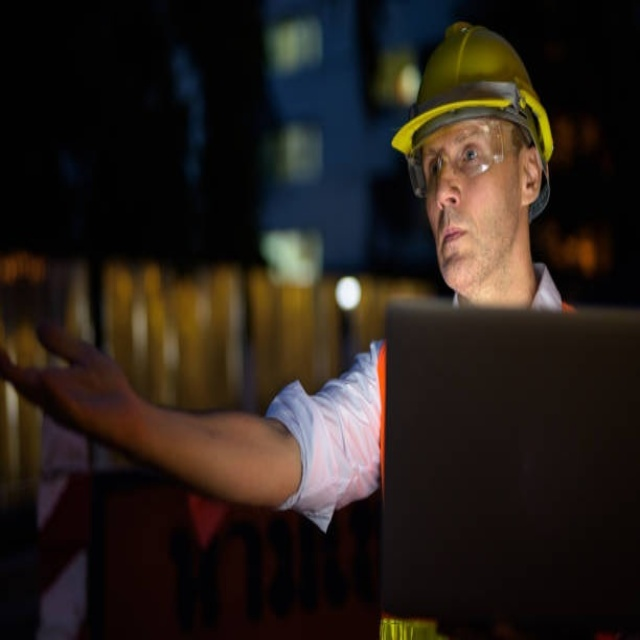Gafas: (408, 121, 523, 204)
Sin_guantes: (2, 322, 137, 442)
Sin_mascara: (436, 221, 477, 278)
